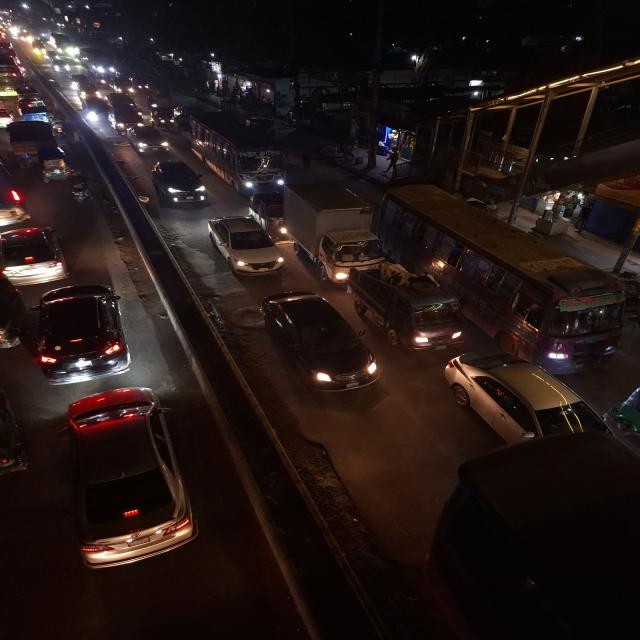bus: (392, 182, 632, 372), (182, 109, 287, 193)
car: (58, 383, 188, 573), (253, 288, 379, 396), (30, 282, 135, 386), (442, 349, 562, 440), (204, 214, 284, 278), (0, 224, 70, 284), (148, 158, 209, 210), (0, 147, 27, 227), (105, 95, 145, 132), (123, 124, 171, 154), (76, 80, 101, 102)
cng: (0, 368, 28, 489), (248, 191, 287, 234), (33, 145, 70, 185), (150, 105, 177, 128)
motorcycle: (66, 173, 95, 209)
pickup_van: (348, 261, 464, 351), (16, 95, 55, 122)
truck: (282, 179, 385, 283)
